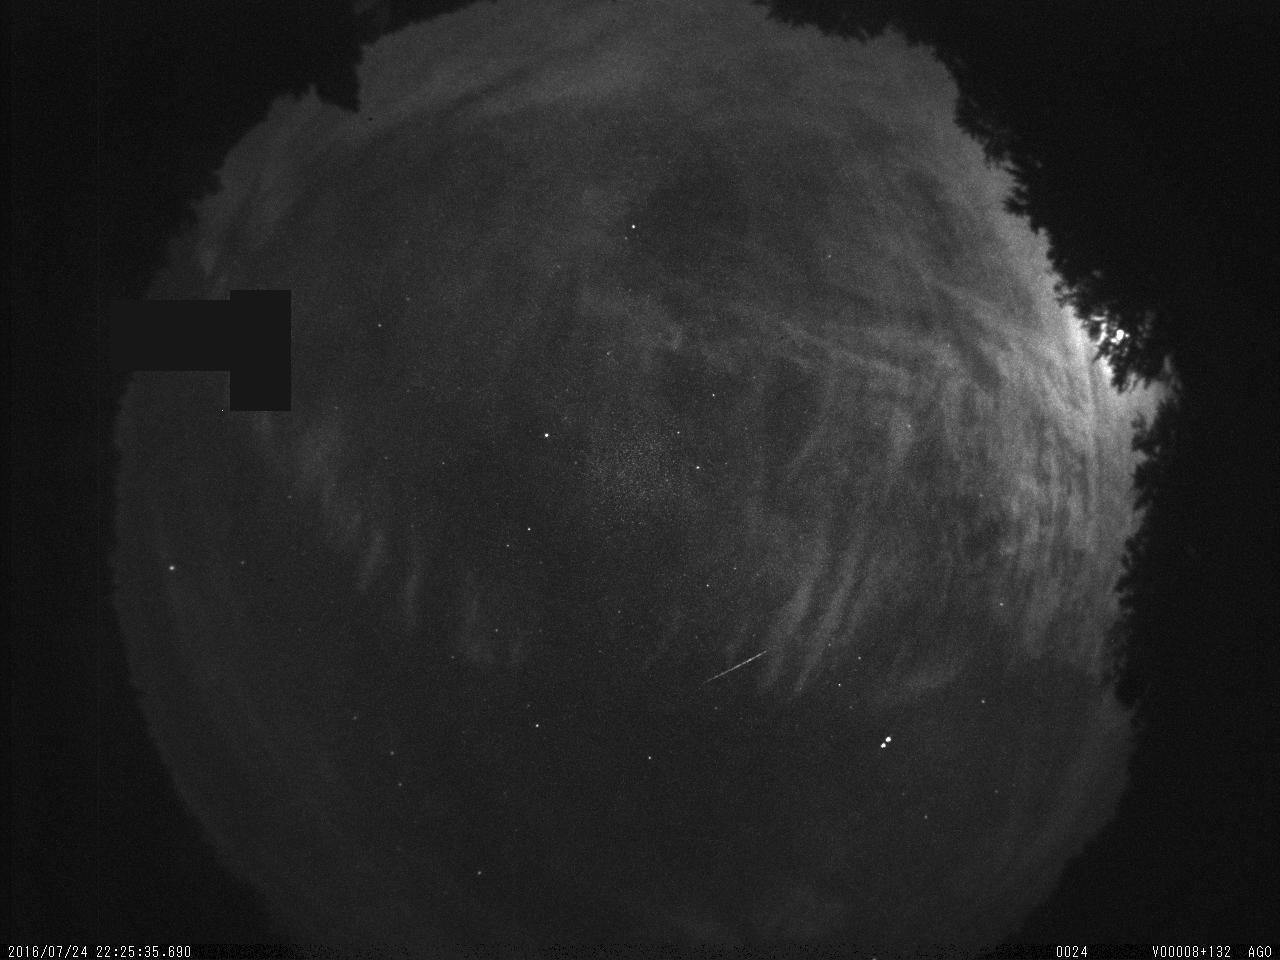Meteor: (696, 645, 776, 689)
